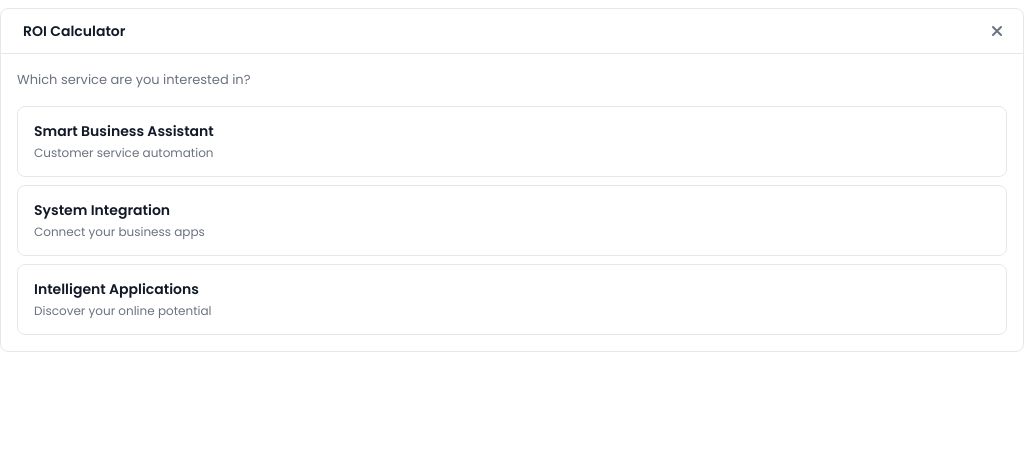
Scenario: ROICalculatorForm › ROI Calculation › should display results after calculation
The width and height of the screenshot is (1024, 450).
// Select Service
Click the button "Smart Business Assistant Customer service automation": coordinates (124, 130) [17,106,1007,176]
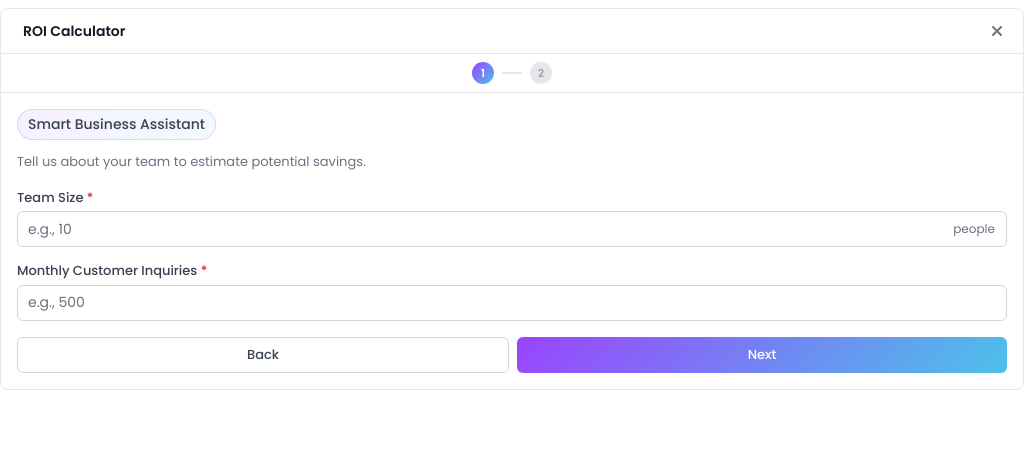
// Fill all fields
In the number field labelled "Team Size": coordinates (512, 229) [17,211,1007,247], type "10"
In the number field labelled "Monthly Customer Inquiries": coordinates (512, 302) [17,284,1007,320], type "500"
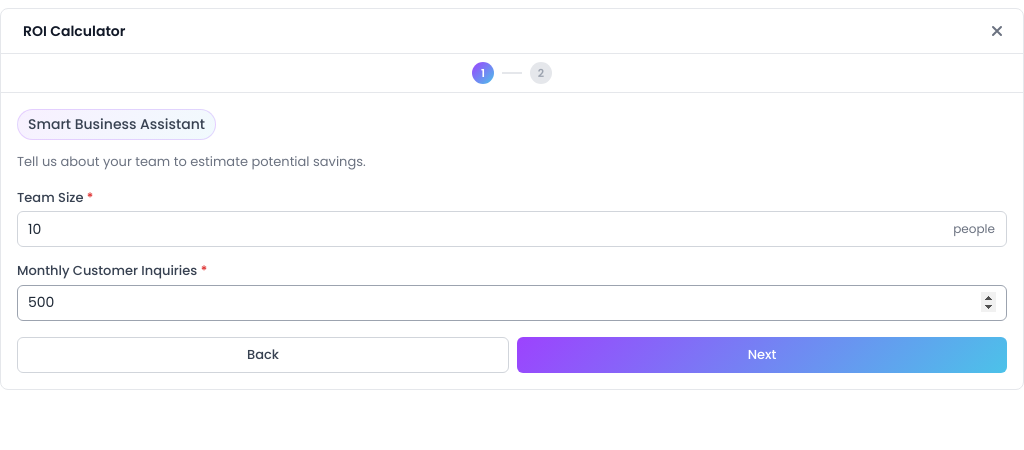
Click the button "Next": coordinates (762, 354) [517,336,1007,372]
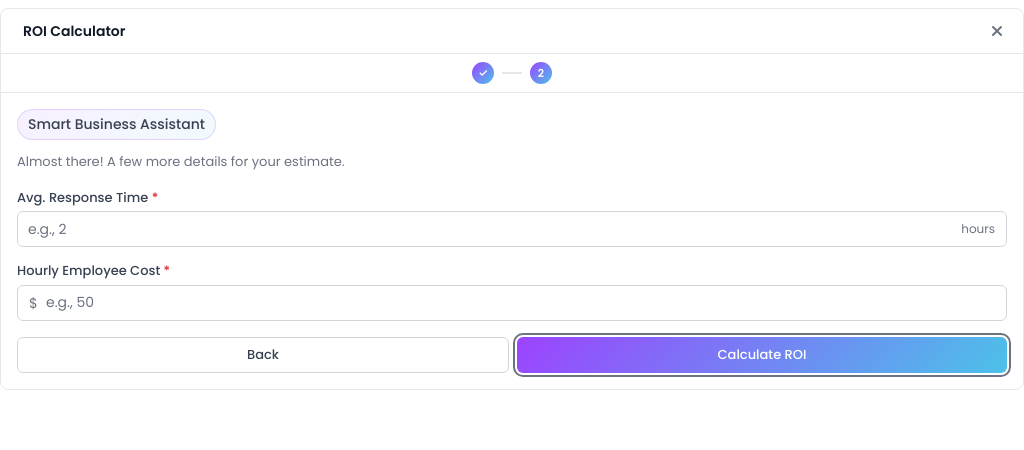
expect the number field labelled "Avg. Response Time" is shown: met
In the number field labelled "Avg. Response Time": coordinates (512, 229) [17,211,1007,247], type "2"
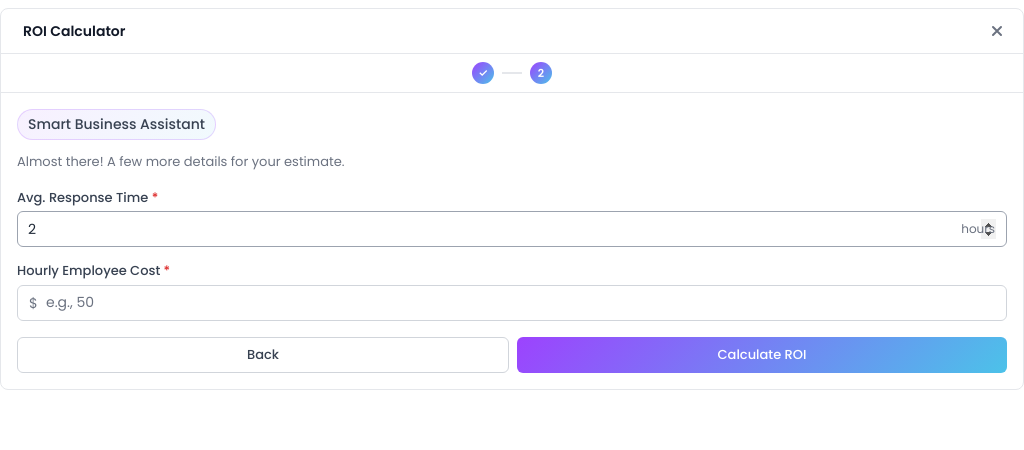
In the number field labelled "Hourly Employee Cost": coordinates (512, 302) [17,284,1007,320], type "50"
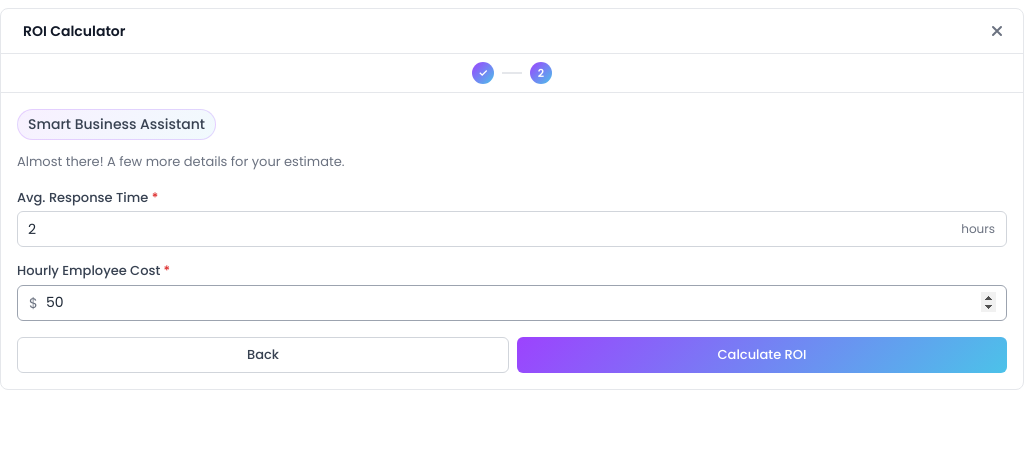
Click the button "Calculate ROI": coordinates (762, 354) [517,336,1007,372]
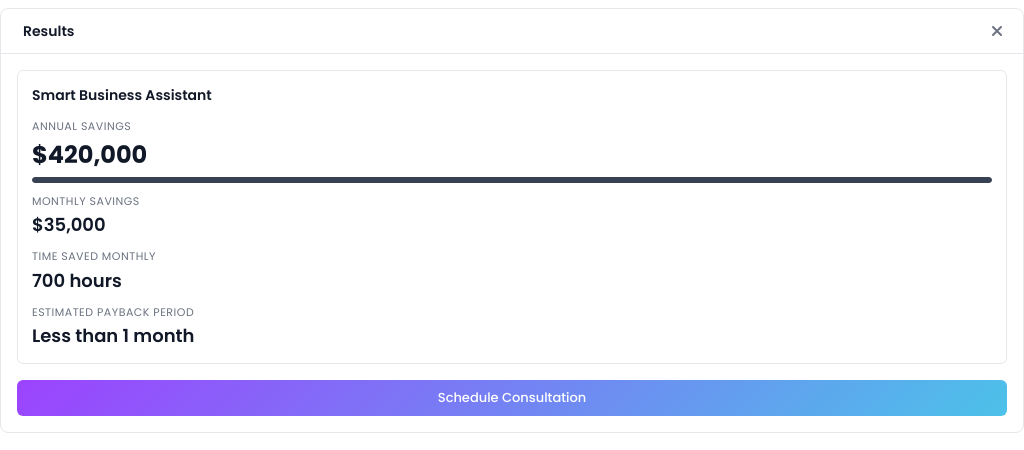
expect the text "Annual Savings" is shown: met, box [32,118,131,134]
expect the text "$420,000" is shown: met, box [32,138,147,170]
